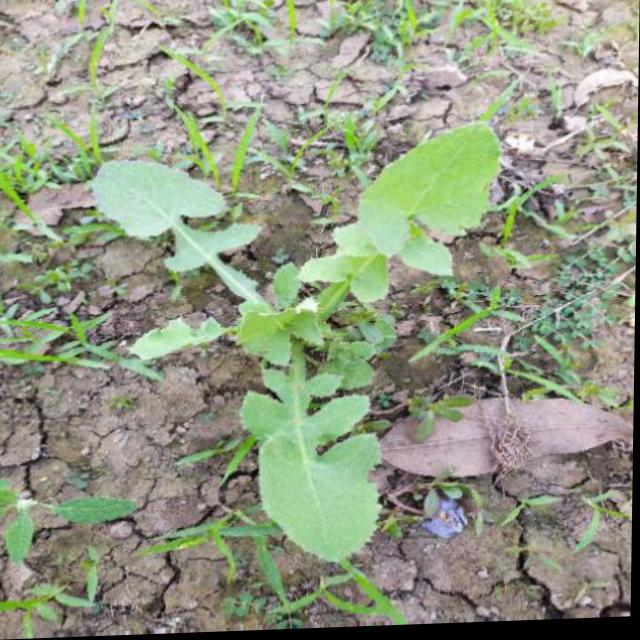weed: (83, 137, 504, 570), (516, 251, 637, 385), (451, 0, 562, 67), (195, 0, 299, 70), (332, 0, 432, 72), (15, 133, 82, 190)
